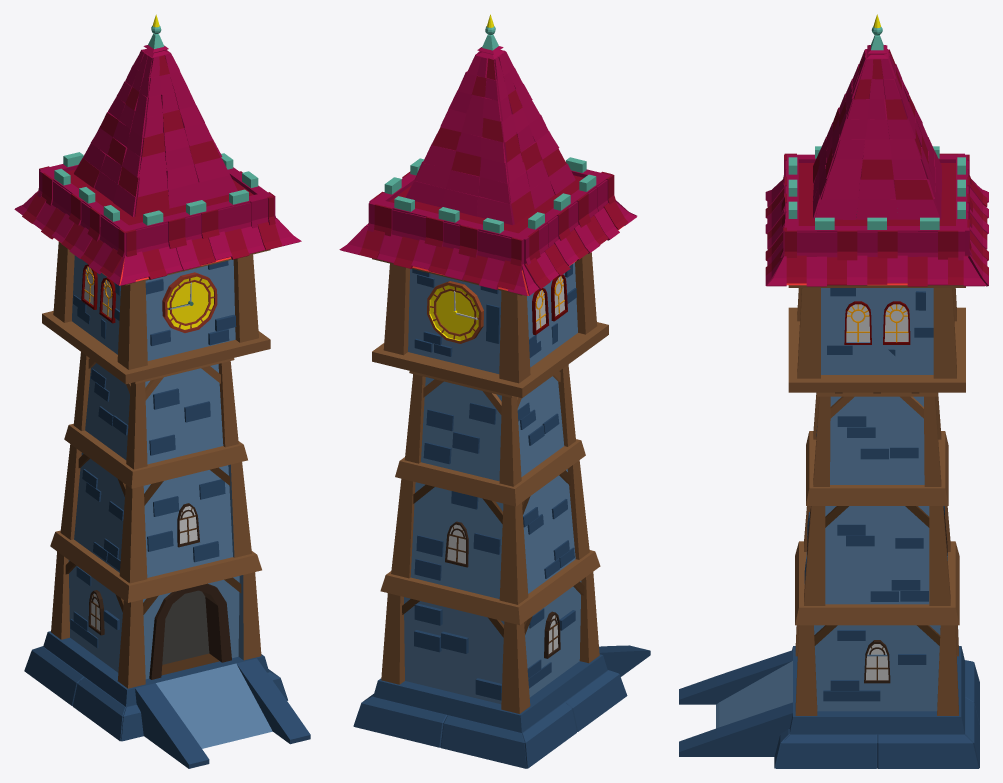
Rendered from SM_Hous_25_A.gltf.
3 renders of one model, left to right at view 1: azimuth 30°, elevation 25°; view 2: azimuth 150°, elevation 25°; view 3: azimuth 270°, elevation 25°, orthographic. The views are drawn at different scales.
Visible parts, largest first — view 1: SM_Hous_25_A; view 2: SM_Hous_25_A; view 3: SM_Hous_25_A.
Part boxes in pixels (x1,y1,x2,y2): SM_Hous_25_A: [14, 14, 310, 768]; SM_Hous_25_A: [339, 14, 650, 768]; SM_Hous_25_A: [679, 14, 988, 768].
Size of the model in its own units: 5.82 by 20.21 by 7.98.
